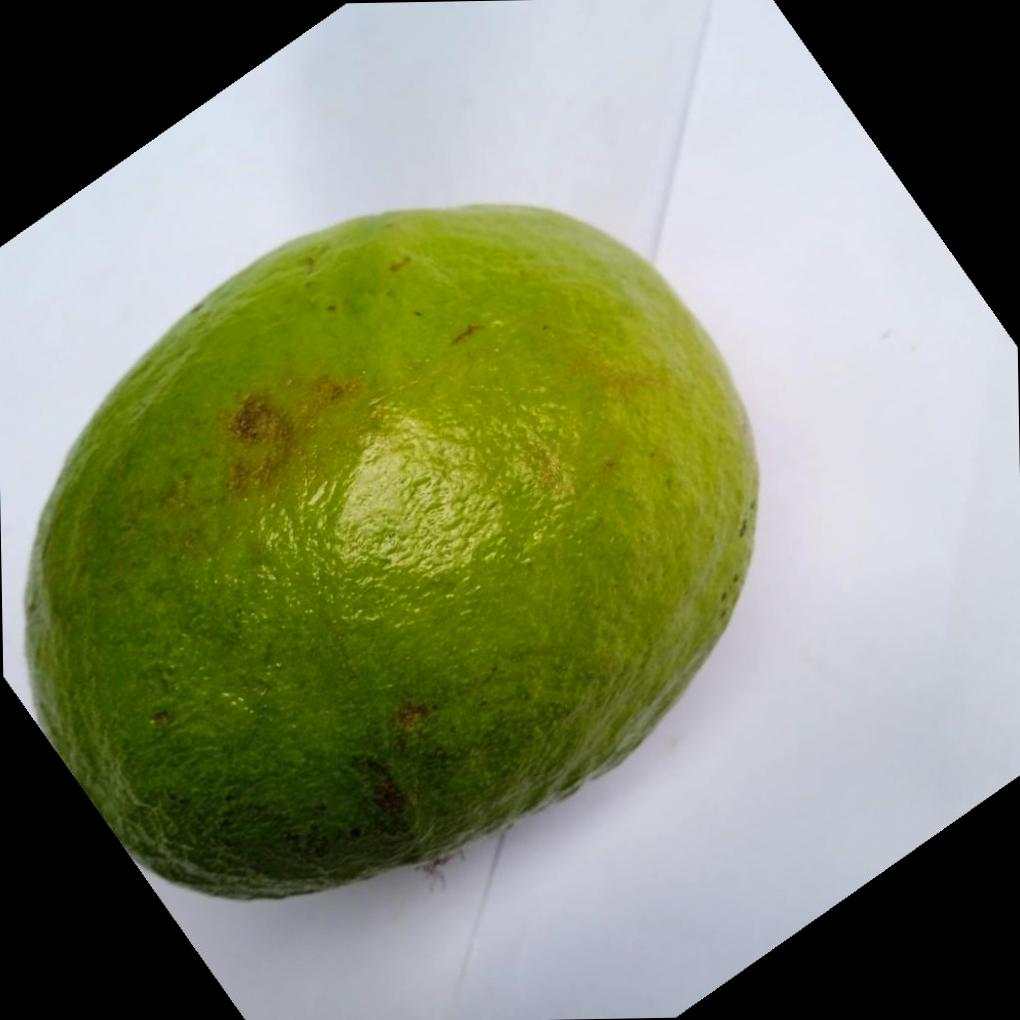FreshGuava: (20, 203, 761, 905)
